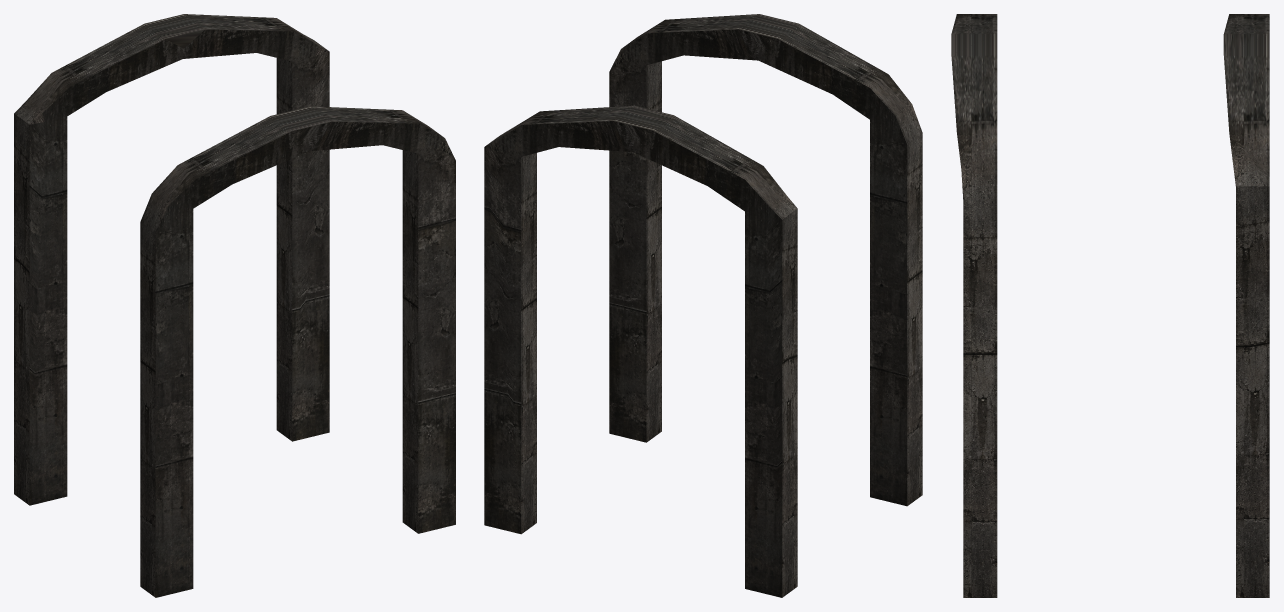
File: ExitWallFrame.fbx
3 views of the same model, side by side, from view 1: azimuth 30°, elevation 25°; view 2: azimuth 150°, elevation 25°; view 3: azimuth 270°, elevation 25° (orthographic). The views are drawn at different scales.
Visible parts, largest first — view 1: ExitWallFrame; view 2: ExitWallFrame; view 3: ExitWallFrame.
Boxes of the visible parts, box(x1,y1,x2,y2) form: ExitWallFrame: box(14, 14, 455, 597); ExitWallFrame: box(484, 14, 922, 597); ExitWallFrame: box(951, 14, 1269, 597).
Bounding box in the file's own units: 3.49 × 4.88 × 2.97.
